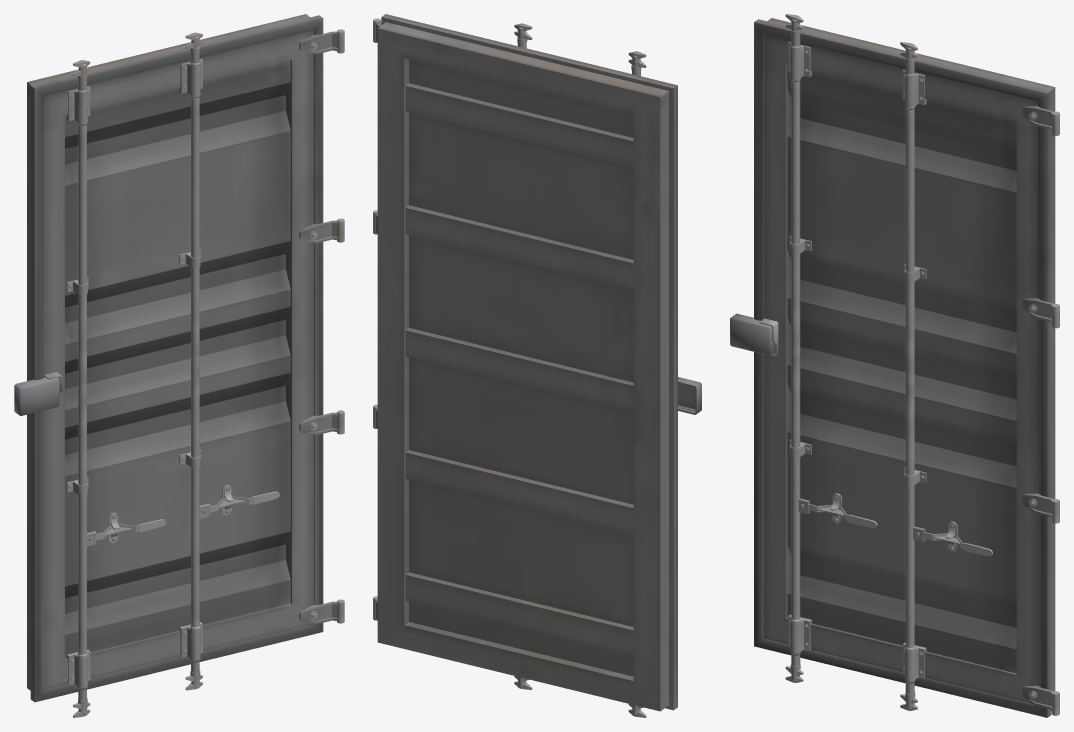
File: SM_ContainerDoorR_67a1c0.glb
The picture shows the model from 3 angles, left to right: view 1: azimuth 30°, elevation 25°; view 2: azimuth 150°, elevation 25°; view 3: azimuth 330°, elevation 25°; orthographic projection.
Size of the model in its own units: 1.3 by 2.51 by 0.1322.
1 material, 1 textured.
